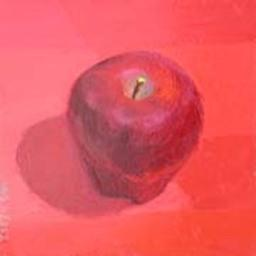apple: (65, 50, 206, 209)
